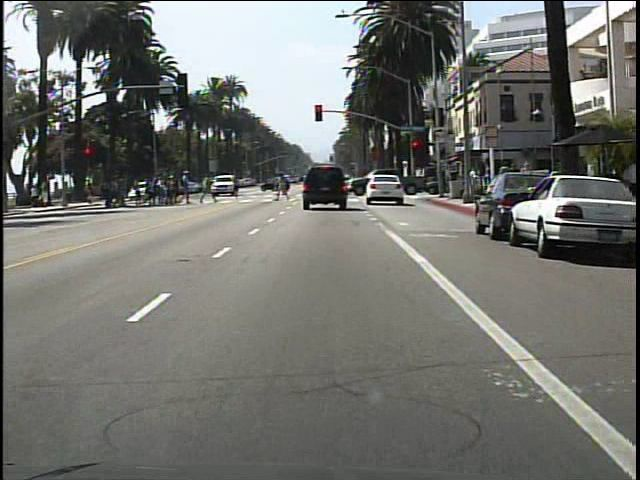person: (613, 153, 638, 212), (227, 167, 247, 202)
